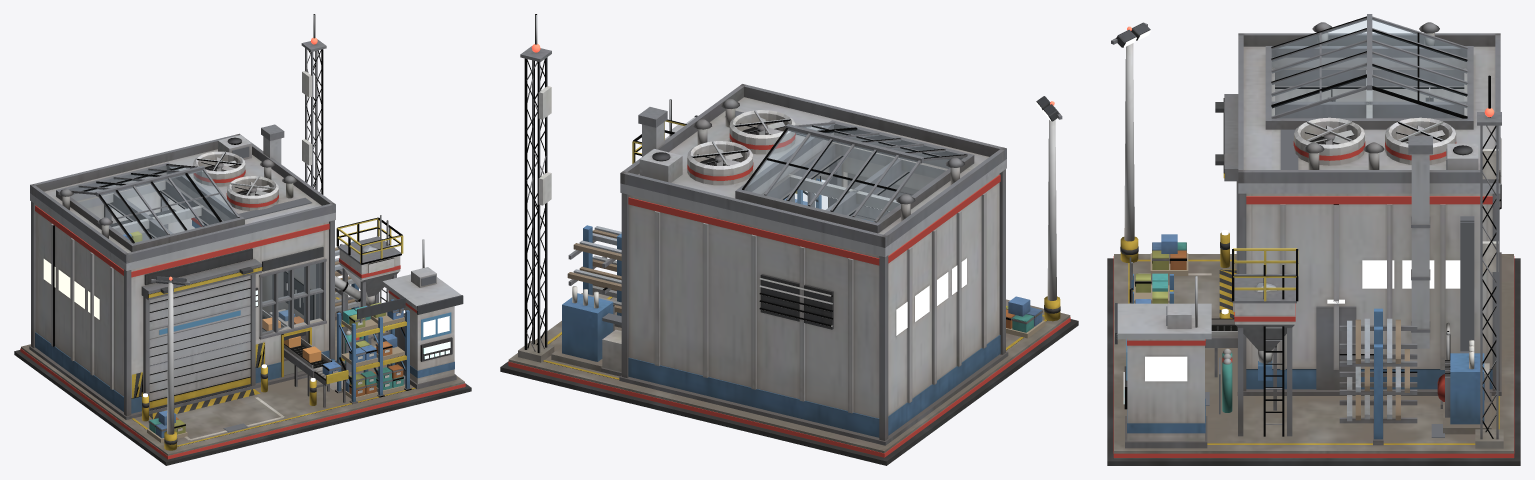
The model's file is machine_shop.glb.
3 views of the same model, side by side, from view 1: azimuth 30°, elevation 25°; view 2: azimuth 150°, elevation 25°; view 3: azimuth 270°, elevation 25° (orthographic). The views are drawn at different scales.
Parts seen in each view (by area): view 1: Build5Body, Build6Body, Build0Body, DoorBody, Build7Body, Build10Body, GlassRoof, Build1Body, Build9Body, MastsBody, GlassFront, Build4Body (+5 smaller); view 2: Build5Body, Build6Body, Build0Body, GlassRoof, MastsBody, Build1Body, Build11Body, OptRackBody, OptCratesBody, DoorBody; view 3: Build5Body, Build6Body, Build0Body, Build10Body, GlassRoof, Build11Body, Build1Body, Build9Body, MastsBody, OptRackBody, Build7Body, OptCratesBody (+3 smaller).
Part boxes in pixels (<box>): Build5Body: <box>31,192,334,416</box>; Build6Body: <box>30,133,335,270</box>; Build0Body: <box>14,296,471,465</box>; DoorBody: <box>149,275,250,410</box>; Build7Body: <box>314,297,411,407</box>; Build10Body: <box>382,239,463,389</box>; GlassRoof: <box>70,166,236,242</box>; Build1Body: <box>29,180,319,419</box>; Build9Body: <box>335,215,403,353</box>; MastsBody: <box>151,14,326,450</box>; GlassFront: <box>263,263,320,332</box>; Build4Body: <box>262,309,345,396</box>; Build5Body: <box>621,157,1005,440</box>; Build6Body: <box>620,84,1006,257</box>; Build0Body: <box>500,294,1078,465</box>; GlassRoof: <box>746,124,961,220</box>; MastsBody: <box>518,14,1062,362</box>; Build1Body: <box>619,142,1008,445</box>; Build11Body: <box>551,107,667,376</box>; OptRackBody: <box>567,225,621,327</box>; OptCratesBody: <box>1006,296,1045,338</box>; DoorBody: <box>849,173,918,221</box>; Build5Body: <box>1215,89,1501,391</box>; Build6Body: <box>1238,14,1500,193</box>; Build0Body: <box>1107,254,1520,465</box>; Build10Body: <box>1115,276,1211,448</box>; GlassRoof: <box>1272,19,1466,117</box>; Build11Body: <box>1219,136,1491,434</box>; Build1Body: <box>1237,67,1501,395</box>; Build9Body: <box>1232,248,1298,436</box>; MastsBody: <box>1111,22,1503,448</box>; OptRackBody: <box>1339,308,1417,445</box>; Build7Body: <box>1129,257,1173,303</box>; OptCratesBody: <box>1150,234,1188,275</box>.
Bounding box in the file's own units: 10.84 × 9.4 × 9.3.
34 materials, 21 textured.
